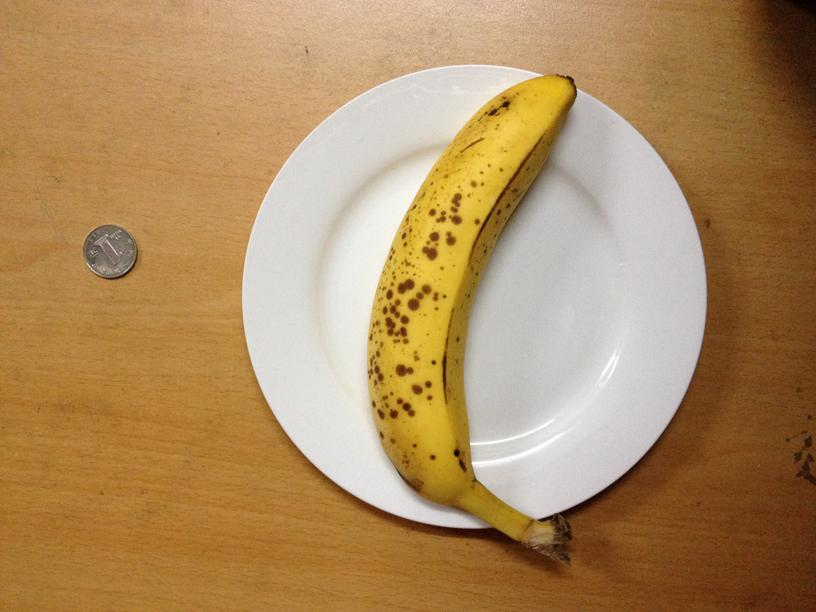banana: (372, 65, 575, 551)
coin: (81, 224, 139, 277)
